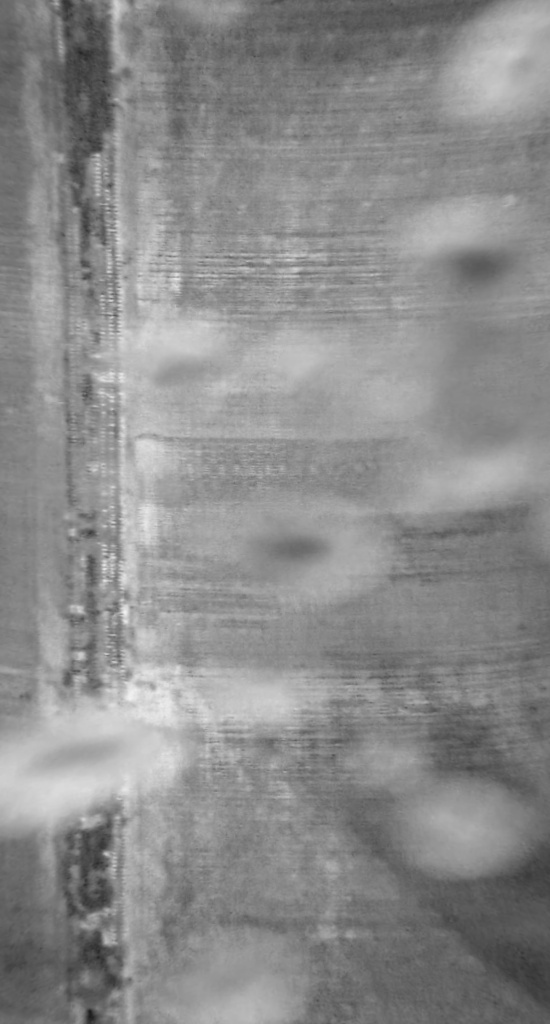splice: (44, 1, 147, 1024)
